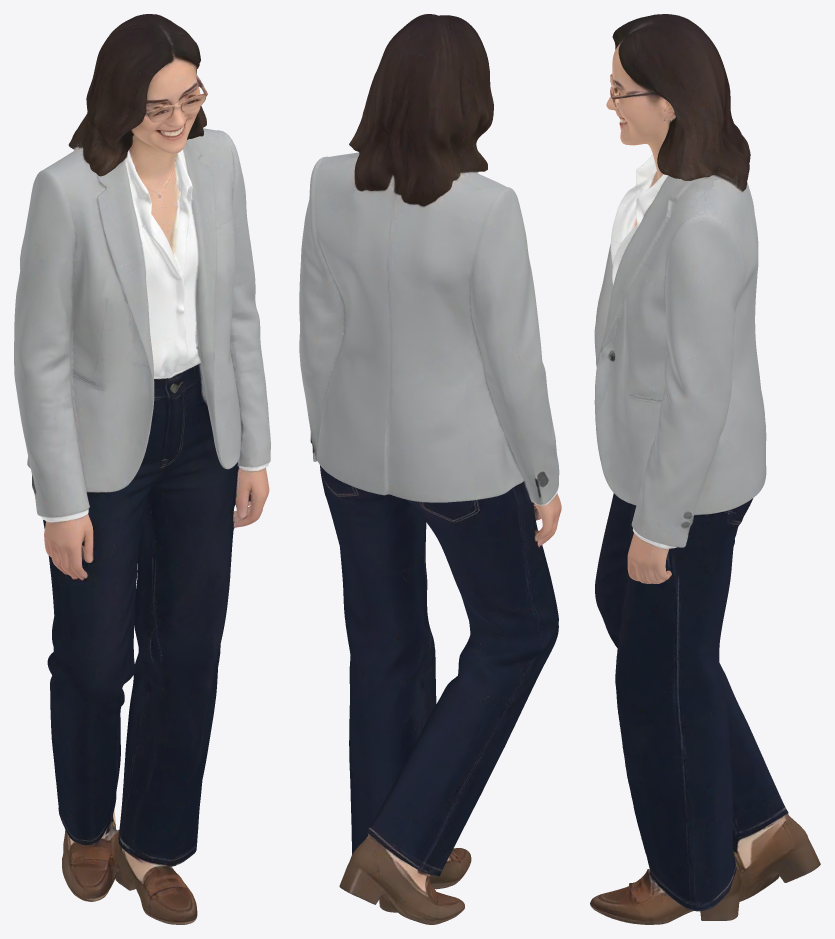
Rendered from confident_professional_in_a_grey_blazer.glb.
3 views of the same model, side by side, from view 1: azimuth 30°, elevation 25°; view 2: azimuth 150°, elevation 25°; view 3: azimuth 270°, elevation 25° (orthographic). The views are drawn at different scales.
Parts seen in each view (by area): view 1: Object_5, Object_6; view 2: Object_6, Object_5; view 3: Object_6, Object_5.
Part boxes in pixels (box(x1,y1,x2,y2)): Object_5: box(14, 14, 270, 924); Object_6: box(14, 14, 269, 913); Object_6: box(299, 15, 560, 924); Object_5: box(299, 14, 561, 912); Object_6: box(613, 14, 820, 924); Object_5: box(590, 14, 776, 924).
Size of the model in its own units: 0.5367 by 1.9 by 0.4443.
1 material, 1 textured.
